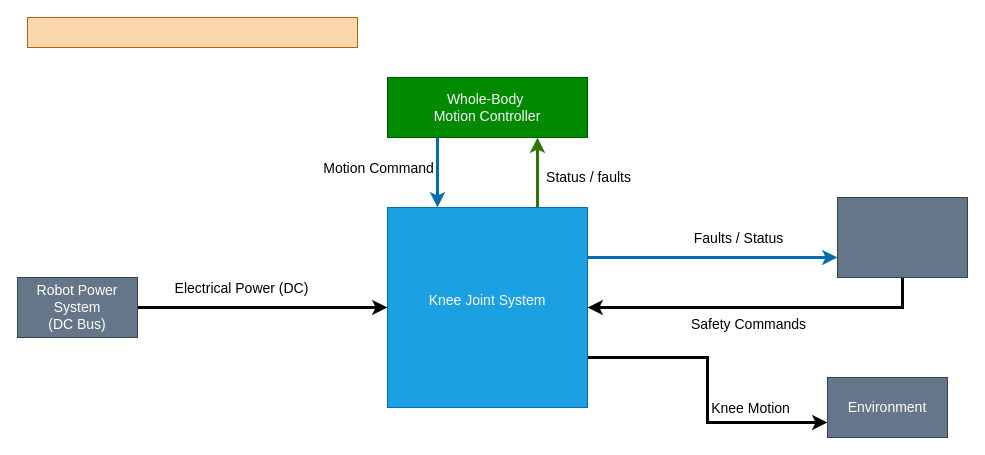
This 985x455 diagram has some shape labels left out. The centre of each missing label's shape, as x and y in pixels:
"Figure 1 - System Context Diagram" belongs at pixel 192 32.
"Robot-Level Safety Supervisor" belongs at pixel 902 237.
